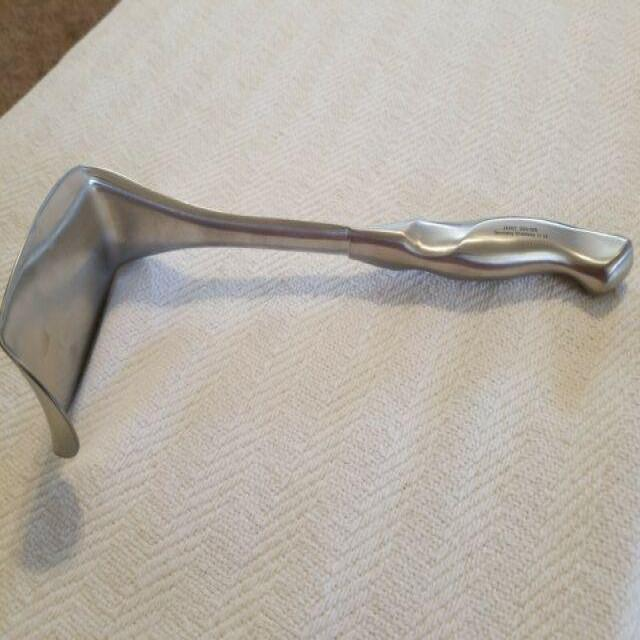Richardson: (0, 161, 635, 464)
